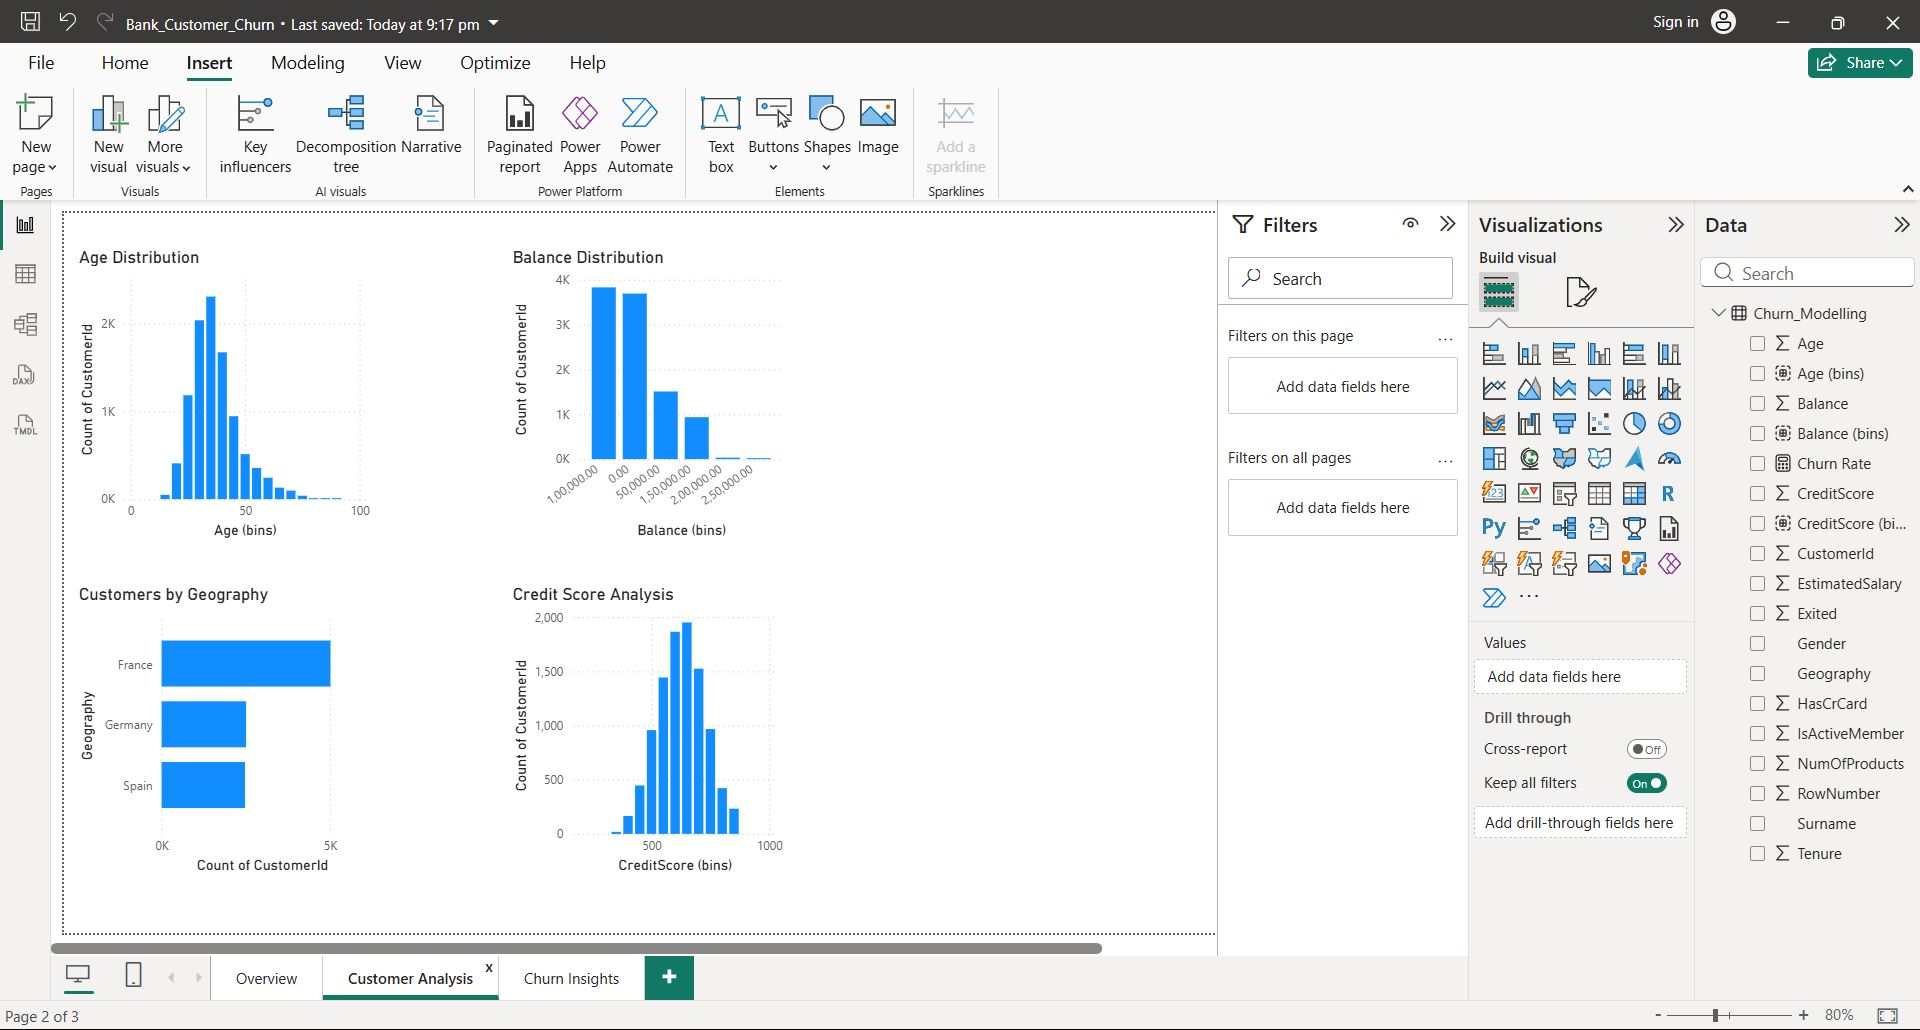

The page's visual inventory and layout, read from the dashboard file:
{"tool":"powerbi","page":{"name":"Customer Analysis","canvas":[1280,720],"ordinal":1},"visuals":[{"type":"clusteredColumnChart","title":"Age Distribution","fields":{"Y":["CountNonNull(Churn_Modelling.CustomerId)"],"Category":["Churn_Modelling.Age (bins)"]},"box":[9.6,34.3,301.9,296.4],"z":0},{"type":"barChart","title":"Customers by Geography","fields":{"Category":["Churn_Modelling.Geography"],"Y":["CountNonNull(Churn_Modelling.CustomerId)"]},"box":[9.6,371.9,301.9,293.7],"z":1000},{"type":"clusteredColumnChart","title":"Balance Distribution","fields":{"Category":["Churn_Modelling.Balance (bins)"],"Y":["CountNonNull(Churn_Modelling.CustomerId)"]},"box":[443.2,34.3,281.3,296.4],"z":2000},{"type":"columnChart","title":"Credit Score Analysis","fields":{"Y":["CountNonNull(Churn_Modelling.CustomerId)"],"Category":["Churn_Modelling.CreditScore (bins)"]},"box":[443.2,371.9,281.3,293.7],"z":3000}]}

Visuals, with their boxes on the page's 1280x720 design canvas (x1, y1, x2, y2). These are canvas units, not pixel positions in the 1920x1030 screenshot, which may show the page scaled, cropped or inside an application window:
"Age Distribution" clusteredColumnChart: <bbox>10, 34, 312, 331</bbox>
"Customers by Geography" barChart: <bbox>10, 372, 312, 666</bbox>
"Balance Distribution" clusteredColumnChart: <bbox>443, 34, 724, 331</bbox>
"Credit Score Analysis" columnChart: <bbox>443, 372, 724, 666</bbox>
